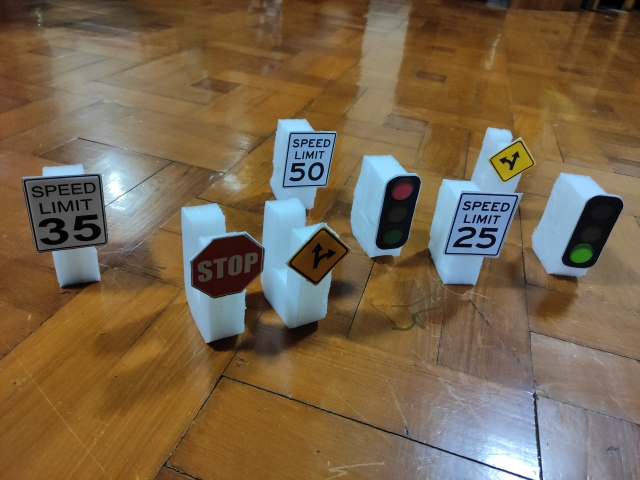Green Traffic Light: (561, 196, 624, 268)
Red Traffic Light: (375, 174, 422, 249)
Speed Limit 25: (444, 191, 520, 258)
Speed Limit 35: (21, 172, 108, 253)
Speed Limit 50: (282, 131, 337, 187)
Stop Sign: (188, 229, 266, 300)
Straight Or Left Sign: (489, 137, 535, 182)
Straight Or Right Sign: (287, 223, 350, 287)
